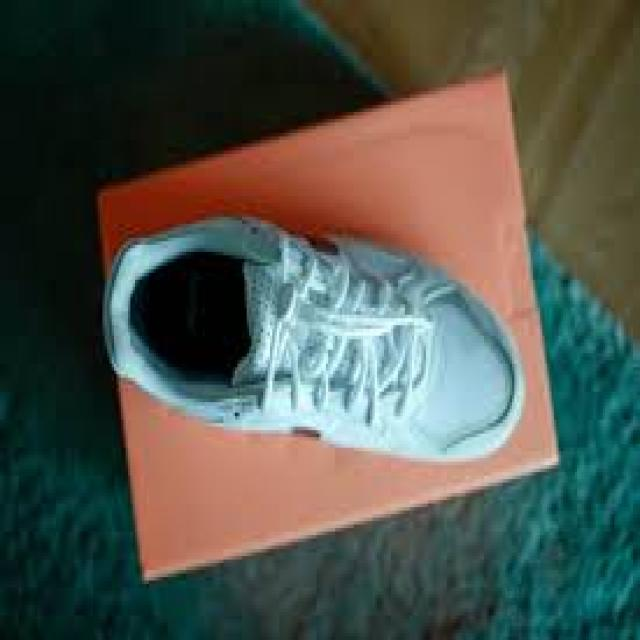shoe: (105, 217, 526, 465)
